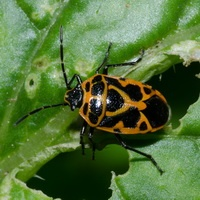insect: (15, 26, 170, 174)
